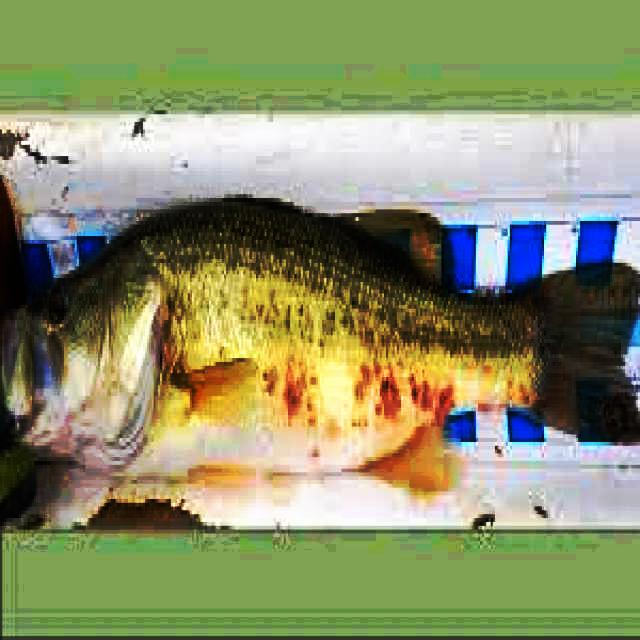Epizootic Ulcerative Syndrome -EUS-: (3, 198, 639, 494)
